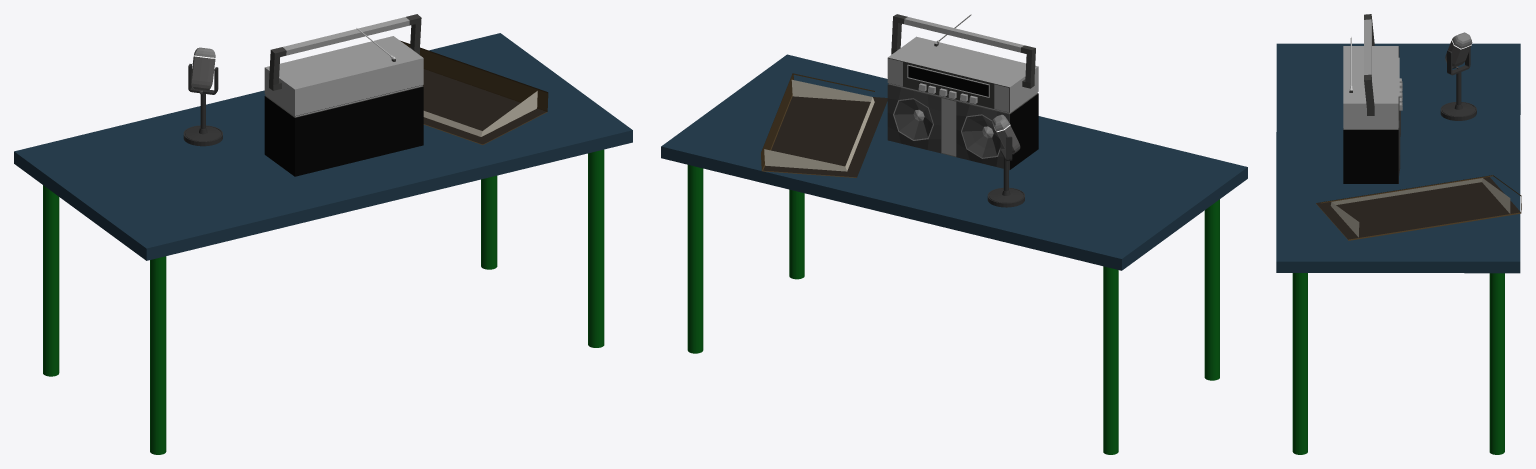
File: 3d_radio_v3.glb
3 renders of one model, left to right at view 1: azimuth 30°, elevation 25°; view 2: azimuth 150°, elevation 25°; view 3: azimuth 270°, elevation 25°, orthographic. The views are drawn at different scales.
Visible parts, largest first — view 1: Table, Radio, Plane, Microphone; view 2: Table, Radio, Plane, Microphone; view 3: Table, Radio, Plane, Microphone.
Boxes of the visible parts, x1,y1,x2,y2 form: Table: (14,33,632,454); Radio: (264,14,423,176); Plane: (400,40,548,144); Microphone: (183,47,222,146); Table: (661,54,1247,454); Radio: (887,14,1038,170); Plane: (761,73,887,177); Microphone: (987,114,1024,207); Table: (1276,43,1520,454); Radio: (1343,14,1402,183); Plane: (1316,175,1521,240); Microphone: (1440,32,1476,120).
Bounding box in the file's own units: 10.41 × 7.12 × 4.95.
